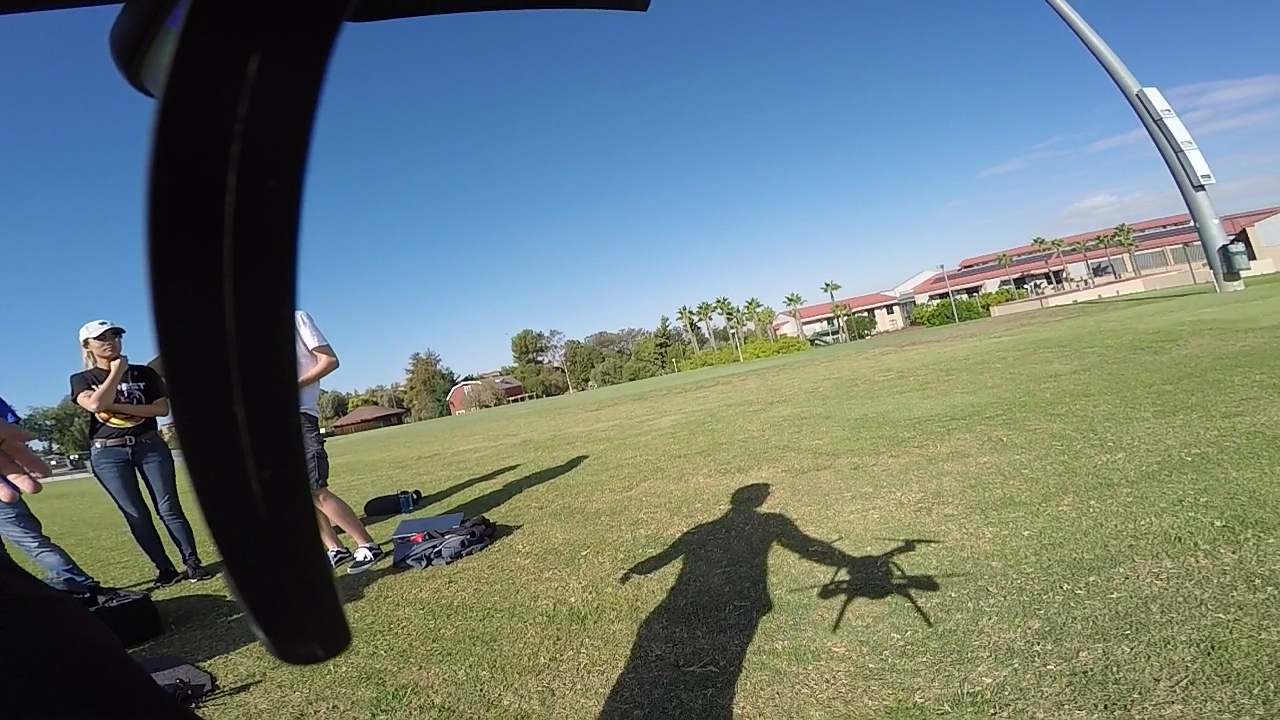person: (67, 316, 203, 583), (2, 567, 197, 713), (284, 301, 396, 554), (0, 423, 118, 598)
